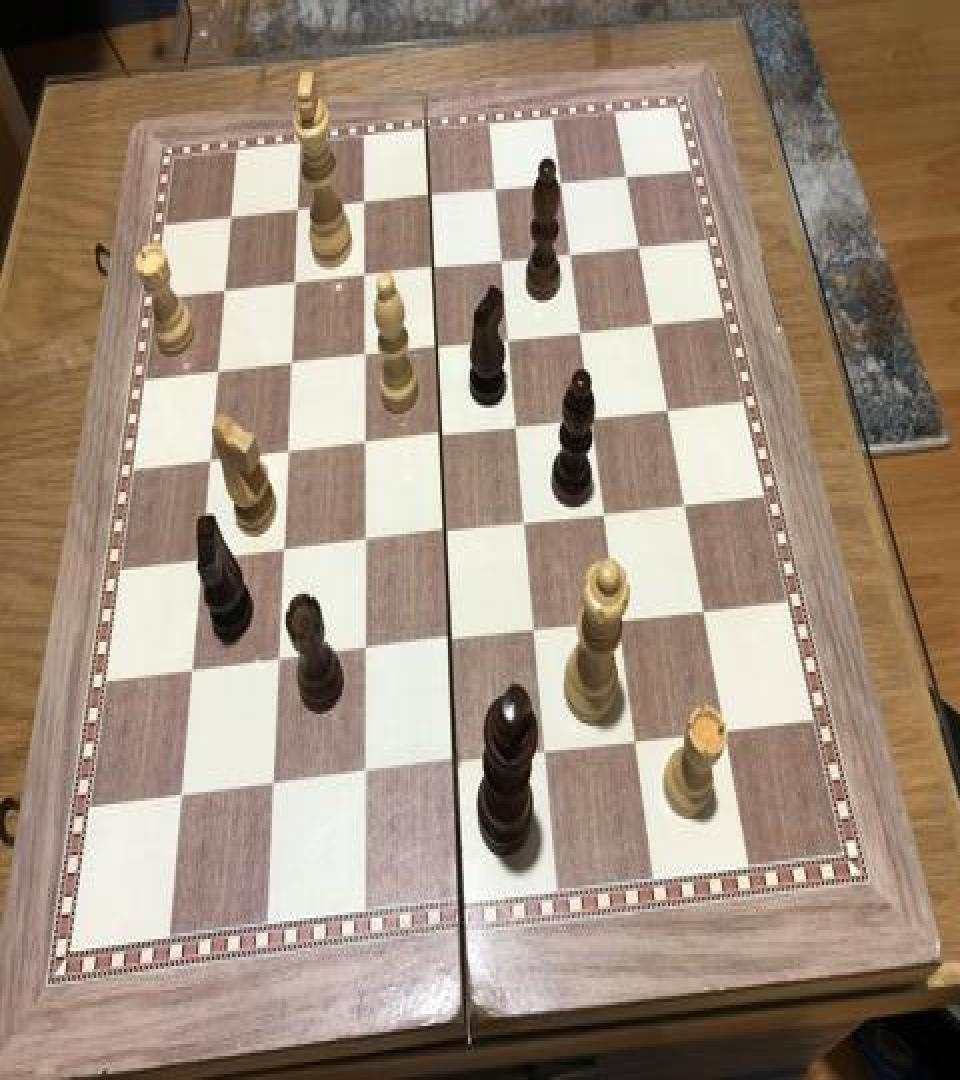xcorner: (443, 625, 467, 662), (269, 646, 293, 683), (449, 748, 473, 785), (170, 784, 194, 821), (618, 159, 642, 195), (553, 165, 577, 201), (487, 171, 511, 207), (421, 178, 445, 214), (355, 184, 379, 220), (288, 190, 312, 226), (220, 196, 244, 232), (630, 230, 654, 266), (562, 237, 586, 273), (494, 243, 518, 279), (425, 250, 449, 286), (355, 256, 379, 292), (285, 264, 309, 300), (214, 270, 238, 306), (644, 308, 668, 344), (573, 315, 597, 351), (501, 322, 525, 358), (429, 330, 453, 366), (355, 338, 379, 374), (281, 345, 305, 381), (207, 352, 231, 388), (660, 393, 684, 429), (585, 400, 609, 436), (509, 410, 533, 446), (433, 417, 457, 453), (356, 426, 380, 462), (278, 435, 302, 471), (199, 442, 223, 478), (677, 488, 701, 524), (598, 496, 622, 532), (518, 506, 542, 542), (437, 516, 461, 552), (356, 525, 380, 561), (274, 534, 298, 570), (190, 543, 214, 579), (696, 594, 720, 630), (613, 604, 637, 640), (528, 615, 552, 651), (356, 636, 380, 672), (181, 657, 205, 693), (718, 714, 742, 750), (629, 724, 653, 760), (539, 736, 563, 772), (357, 760, 381, 796), (264, 772, 288, 808)
